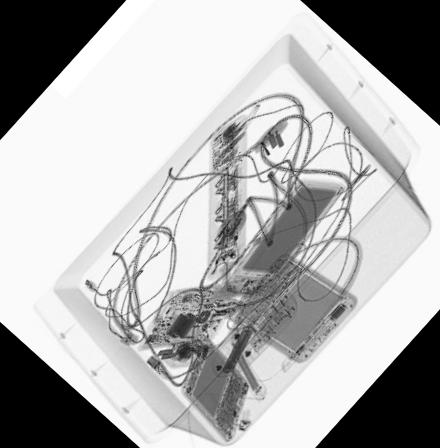Powerbank: (217, 179, 339, 298)
